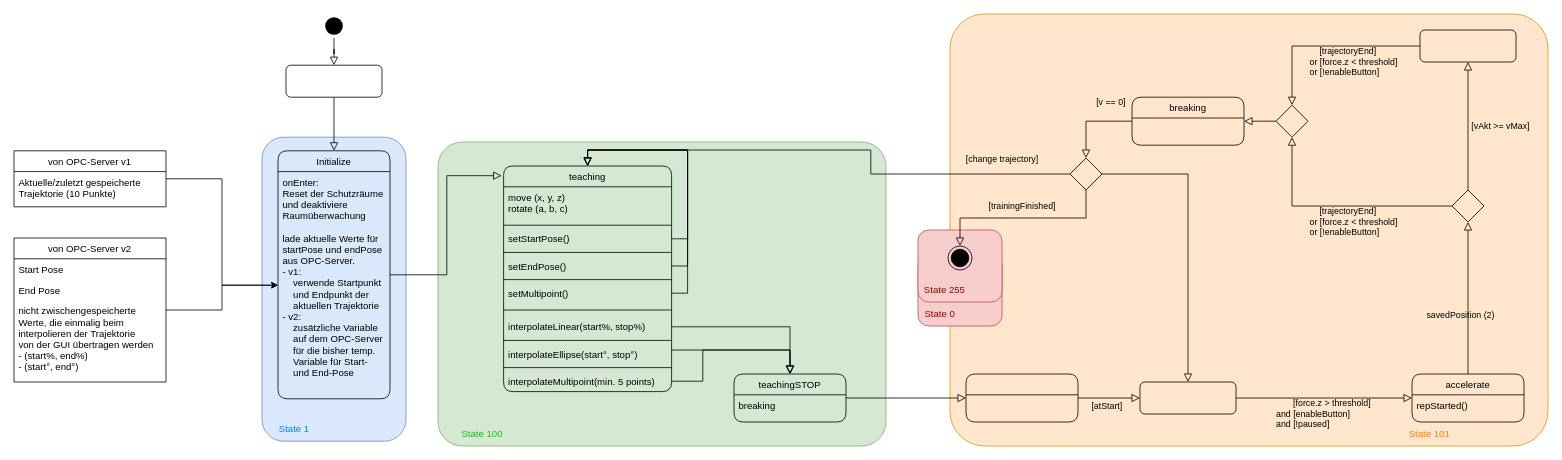
The diagram is 1562 pixels wide and 460 high, and some of its shapes have lost their labels. The shapes that lost their labels are listed below. From the top down, each one's centre as x and y in pixels, then its label:
pixel 1467 45: constant
pixel 333 80: moveToHome
pixel 1021 397: moveToStart
pixel 1187 397: checkForce
